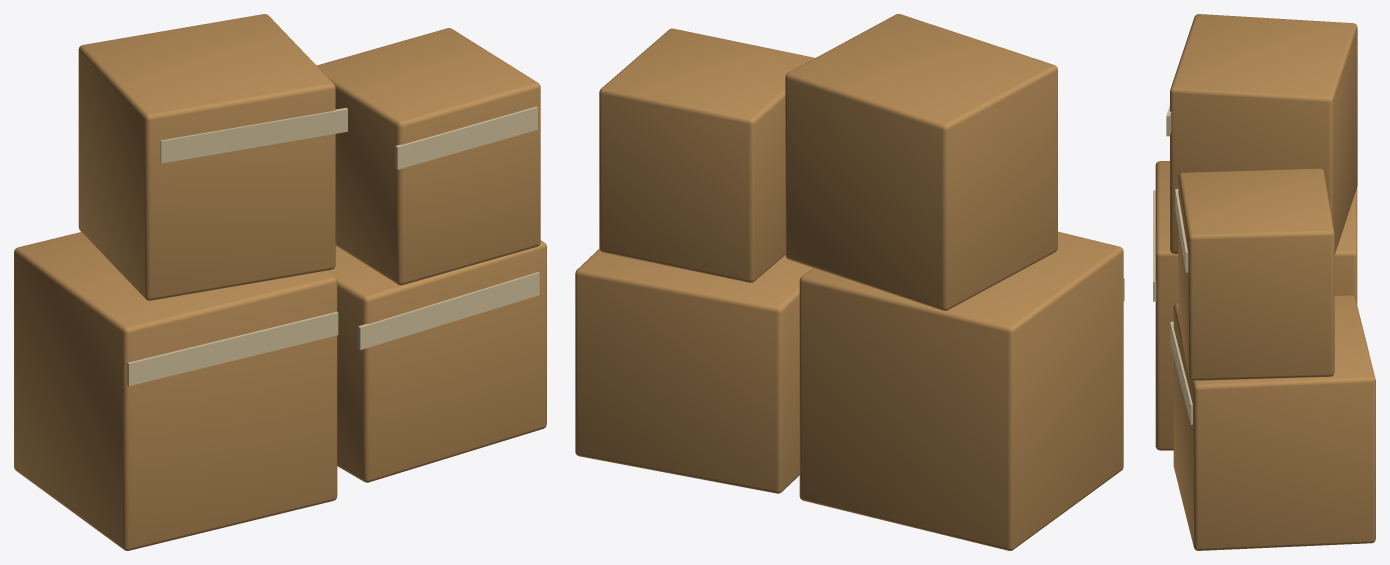
The model's file is attic_boxes.glb.
3 renders of one model, left to right at view 1: azimuth 30°, elevation 25°; view 2: azimuth 150°, elevation 25°; view 3: azimuth 270°, elevation 25°, orthographic. The views are drawn at different scales.
Visible parts, largest first — view 1: attic_boxes; view 2: attic_boxes; view 3: attic_boxes.
Boxes of the visible parts, x1,y1,x2,y2 form: attic_boxes: (14,14,546,550); attic_boxes: (575,14,1124,550); attic_boxes: (1153,14,1375,550).
Size of the model in its own units: 1.25 by 1.1 by 0.6081.
